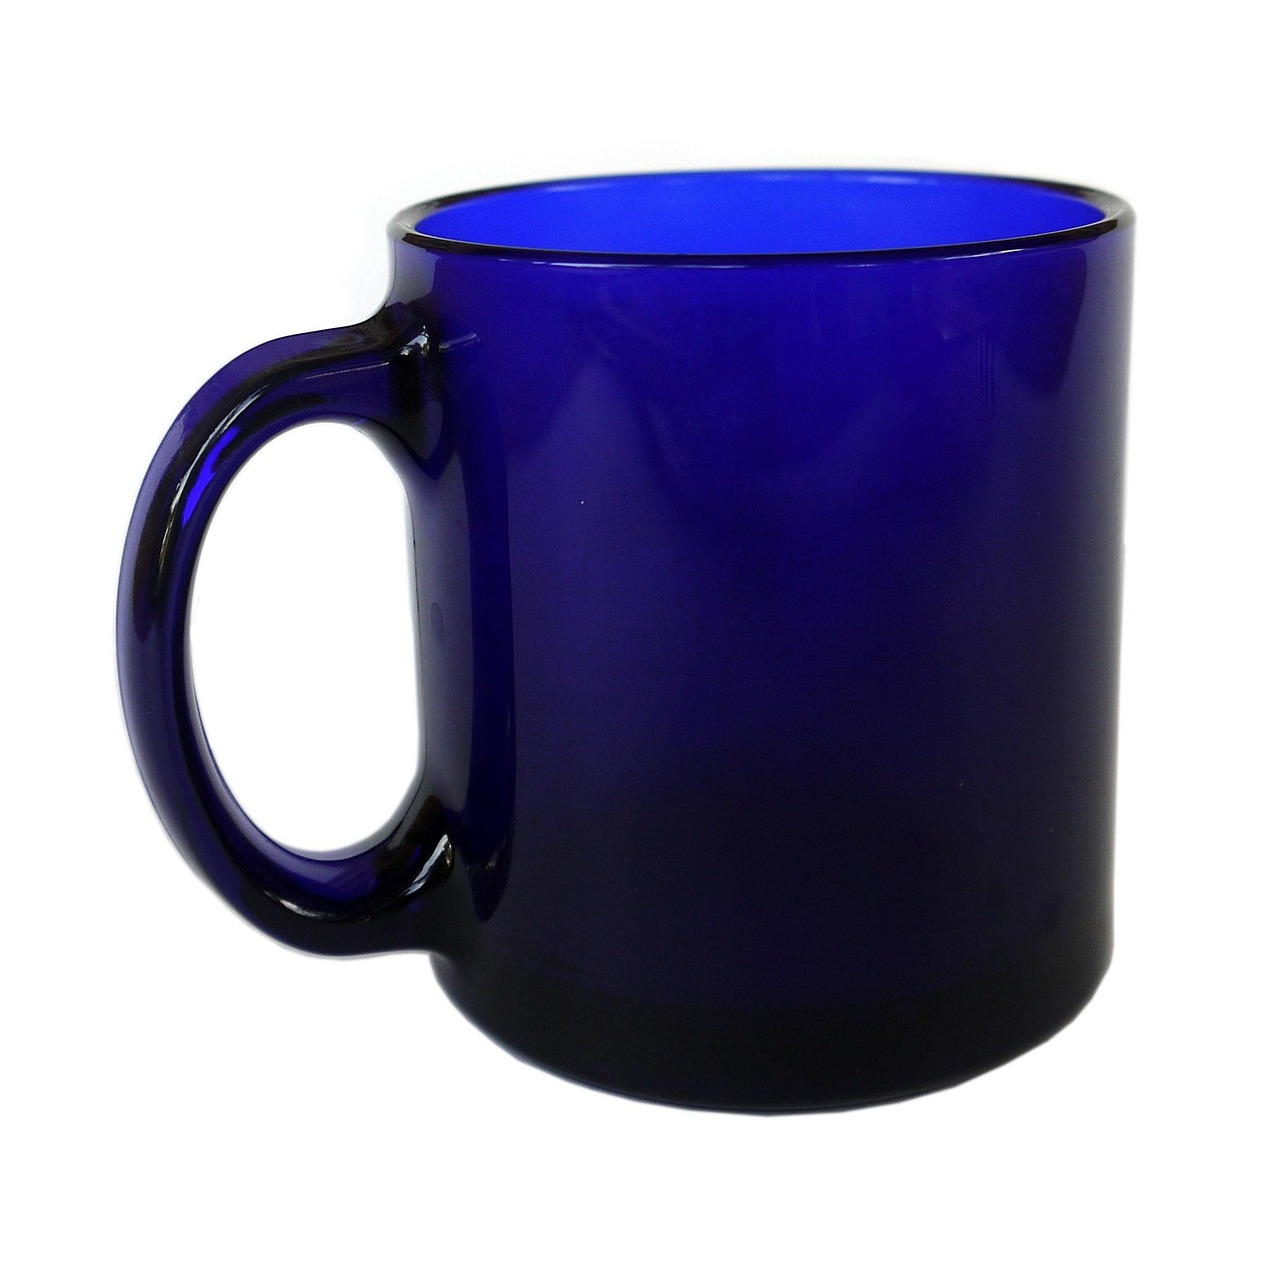mug: (96, 139, 1168, 1134)
